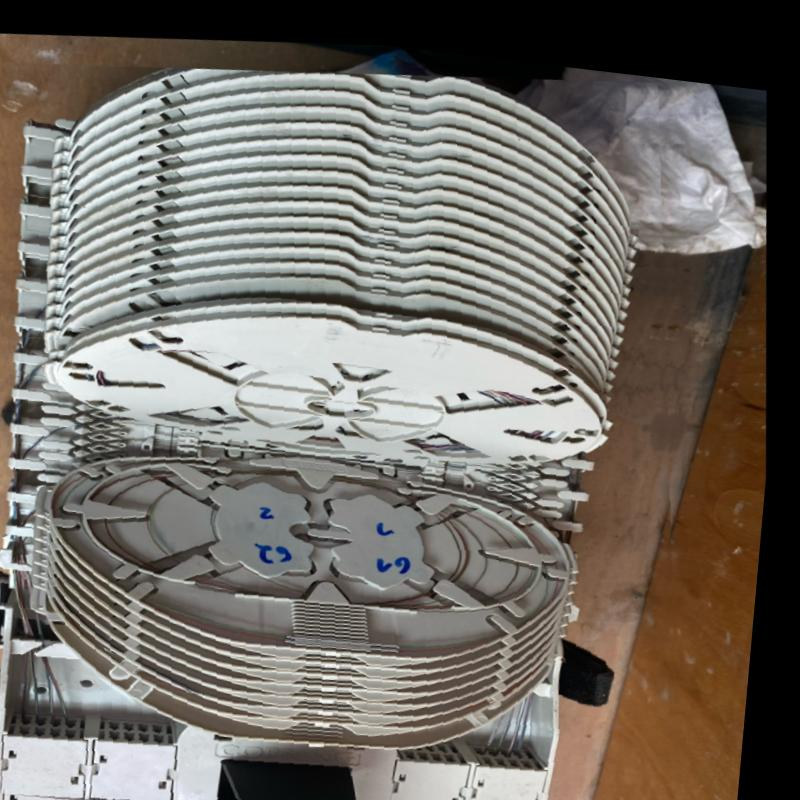NT-Muffen: (8, 64, 670, 800)
